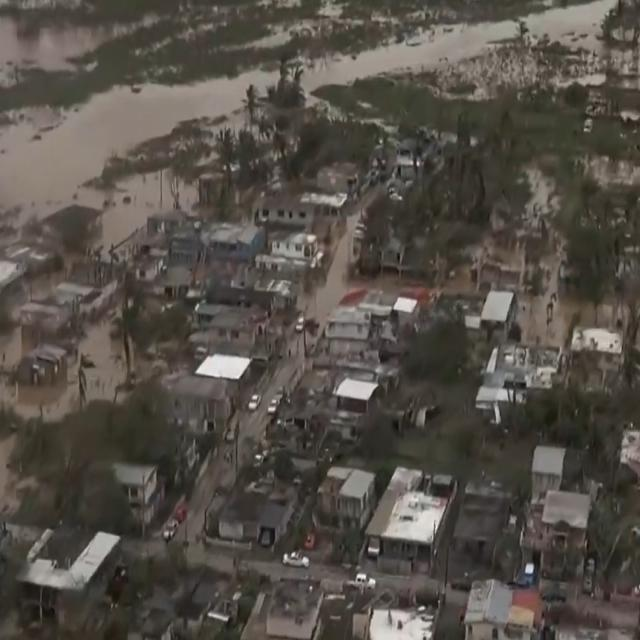flood: (0, 62, 282, 246), (294, 0, 612, 90), (320, 190, 489, 330), (0, 311, 125, 422), (512, 230, 623, 352), (0, 14, 134, 86), (241, 18, 311, 46), (585, 155, 640, 190), (0, 433, 20, 516), (532, 168, 561, 220), (0, 328, 18, 370)
house: (364, 474, 458, 586), (22, 524, 124, 624), (479, 337, 566, 423), (218, 474, 287, 546), (461, 579, 540, 640), (570, 320, 630, 381), (177, 369, 229, 436), (322, 468, 376, 532), (322, 305, 373, 360), (258, 186, 318, 226), (333, 371, 378, 422), (268, 231, 320, 271), (211, 311, 259, 350), (477, 286, 512, 337)
